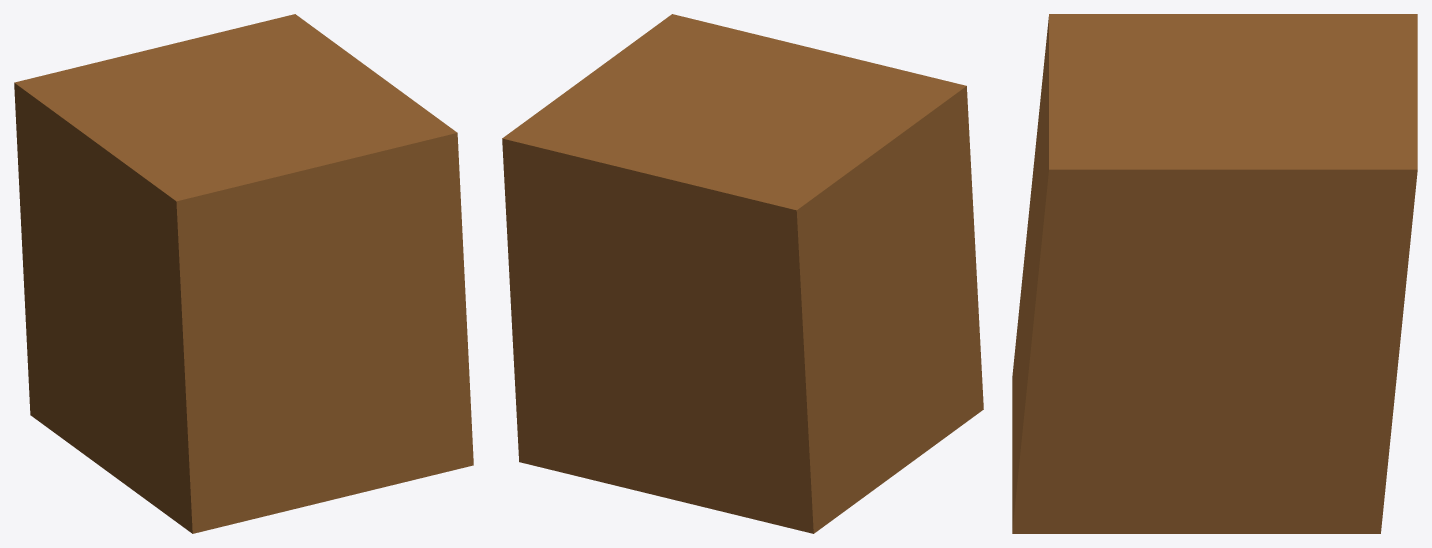
The model's file is seed_blend_shapes.fbx.
3 renders of one model, left to right at view 1: azimuth 30°, elevation 25°; view 2: azimuth 150°, elevation 25°; view 3: azimuth 270°, elevation 25°, orthographic. The views are drawn at different scales.
Parts seen in each view (by area): view 1: MorphedCube; view 2: MorphedCube; view 3: MorphedCube.
Boxes of the visible parts, left/top/right/bottom form: MorphedCube: left=14, top=14, right=473, bottom=533; MorphedCube: left=502, top=14, right=983, bottom=533; MorphedCube: left=1012, top=14, right=1417, bottom=533.
Bounding box in the file's own units: 1 × 1.09 × 1.1.
